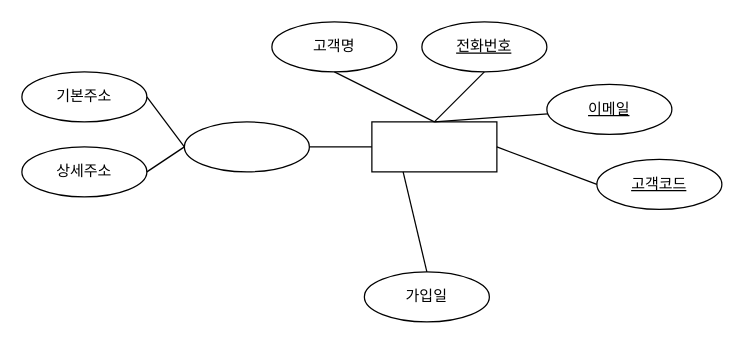
The diagram is 744 pixels wide and 344 high, and some of its shapes have lost their labels. Each missing label, with the centre of its shape:
고객: pixel 434 146
주소: pixel 246 146
